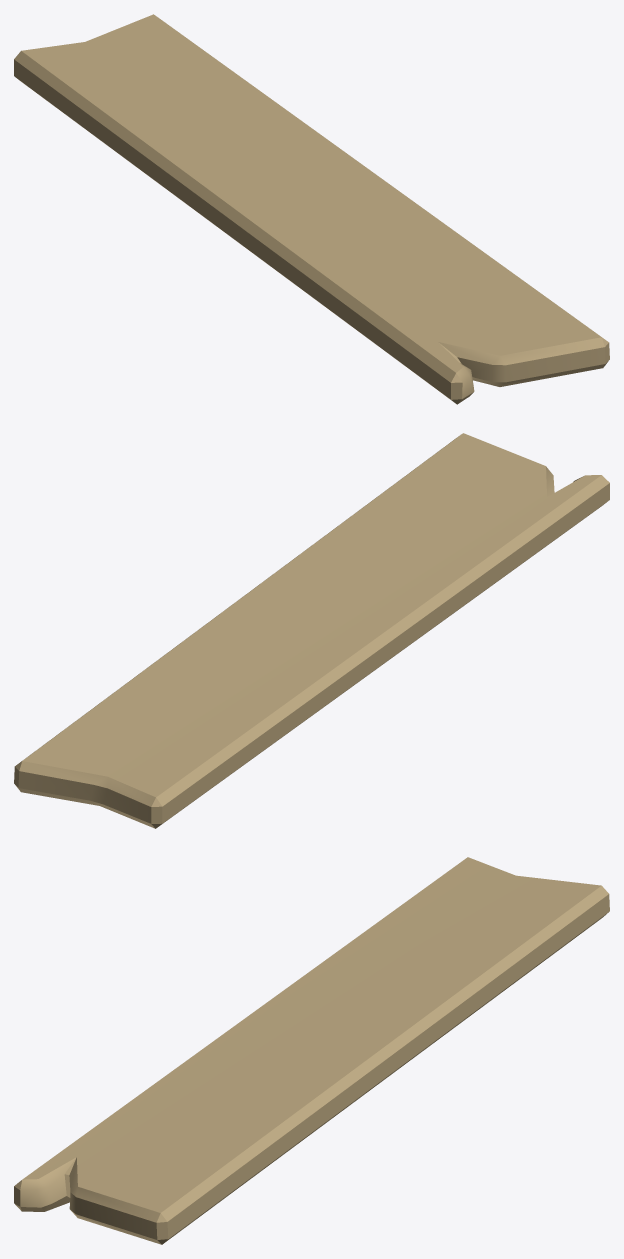
File: bridge_p3.fbx
The picture shows the model from 3 angles, top to bottom: view 1: azimuth 30°, elevation 25°; view 2: azimuth 150°, elevation 25°; view 3: azimuth 330°, elevation 25°; orthographic projection.
Visible parts, largest first — view 1: bridge_p3; view 2: bridge_p3; view 3: bridge_p3.
Part boxes in pixels (bbox=[...]): bridge_p3: bbox=[14, 14, 609, 404]; bridge_p3: bbox=[14, 433, 609, 828]; bridge_p3: bbox=[14, 857, 609, 1244].
Size of the model in its own units: 41.7 by 9.06 by 208.
